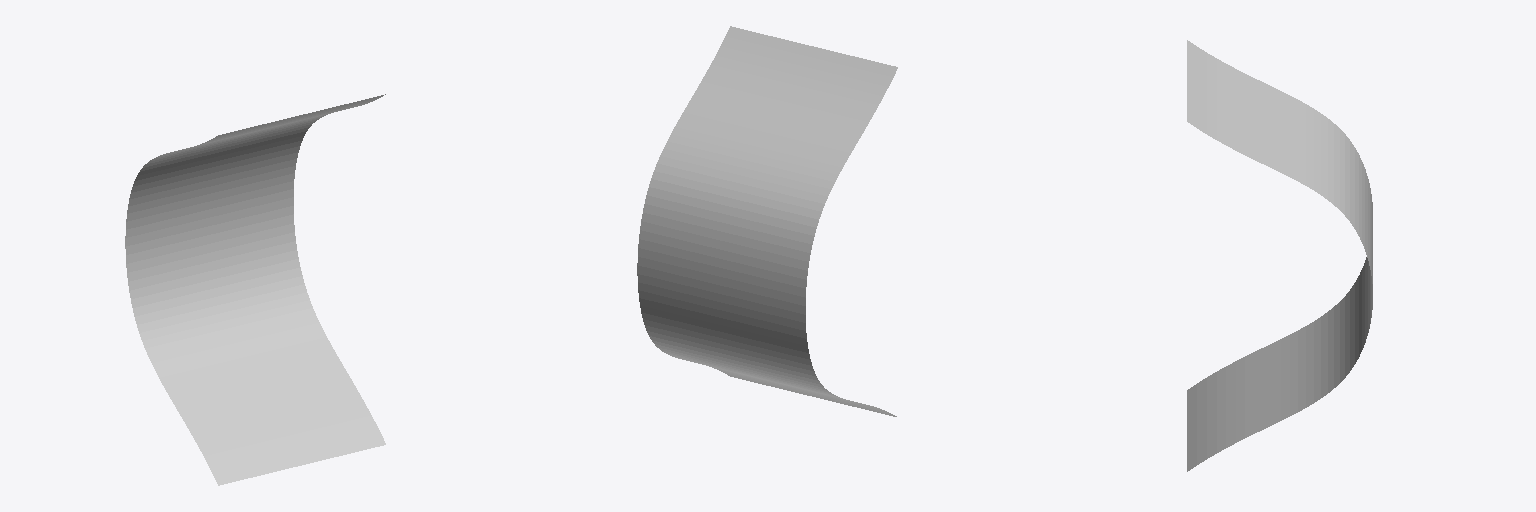
File: halfpipe1.obj
3 renders of one model, left to right at view 1: azimuth 30°, elevation 25°; view 2: azimuth 150°, elevation 25°; view 3: azimuth 270°, elevation 25°, orthographic.
Visible parts, largest first — view 1: NurbsCurve; view 2: NurbsCurve; view 3: NurbsCurve.
Part boxes in pixels (left/top/right/bottom): NurbsCurve: left=125, top=94, right=385, bottom=485; NurbsCurve: left=637, top=26, right=897, bottom=416; NurbsCurve: left=1187, top=40, right=1372, bottom=471.
Bounding box in the file's own units: 1 × 1.99 × 0.958.